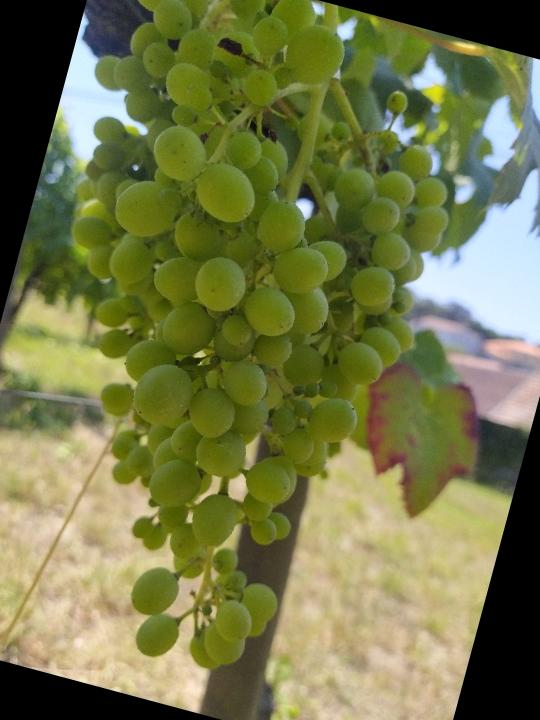grape: (0, 0, 498, 706)
